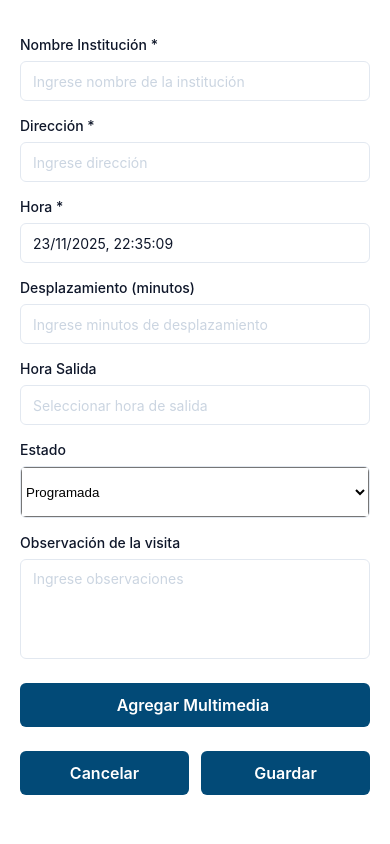
Test case: VisitForm - Multimedia Upload › adjunta foto al formulario cuando se toma una foto
This screenshot has width=390, height=844.
Note: Open multimedia modal
Click the text "Agregar Multimedia" at (195, 705), box [117, 695, 273, 715]
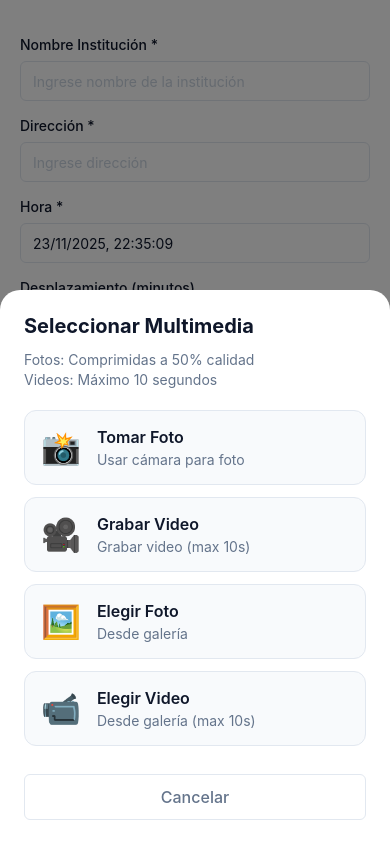
Note: Select take photo
Click the text "Tomar Foto" at (140, 437), box [97, 427, 184, 447]
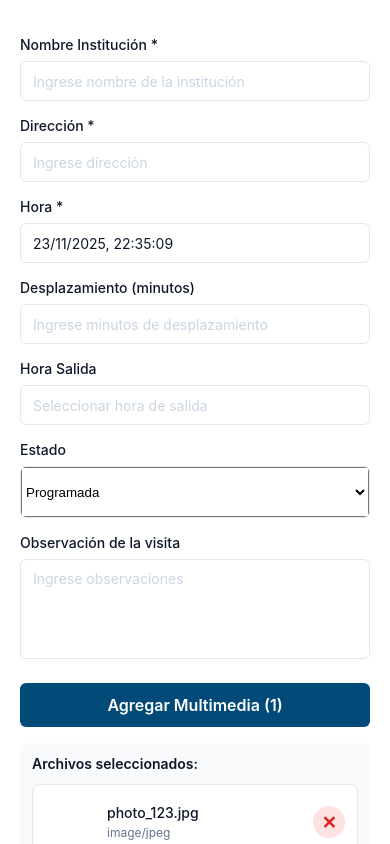
Expected: the text "photo_123.jpg" is shown, [107, 804, 199, 821]
Expected: the text "image/jpeg" is shown, [107, 825, 170, 840]
